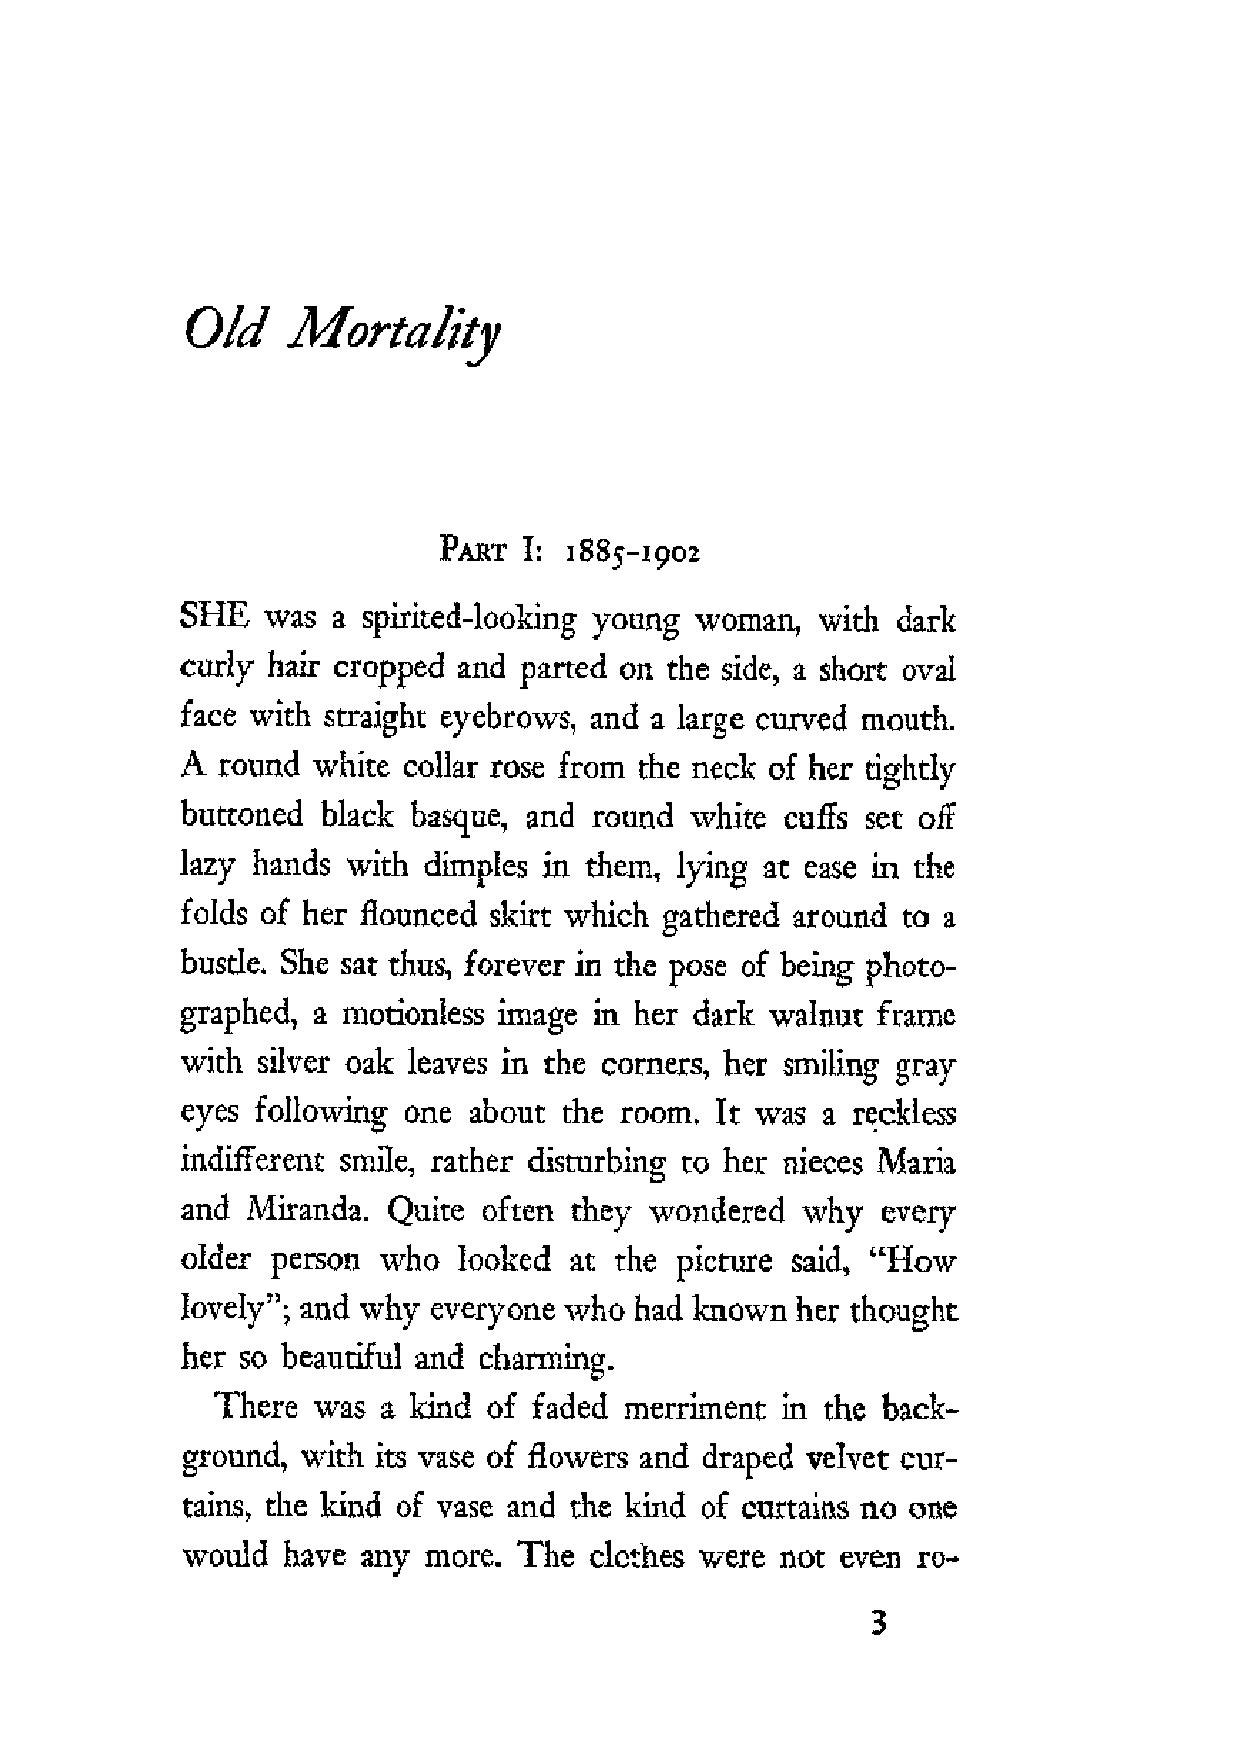chapter: (178, 297, 505, 369), (429, 525, 705, 574)
content: (170, 589, 965, 1585)
content_pagenumber: (866, 1605, 890, 1637)
